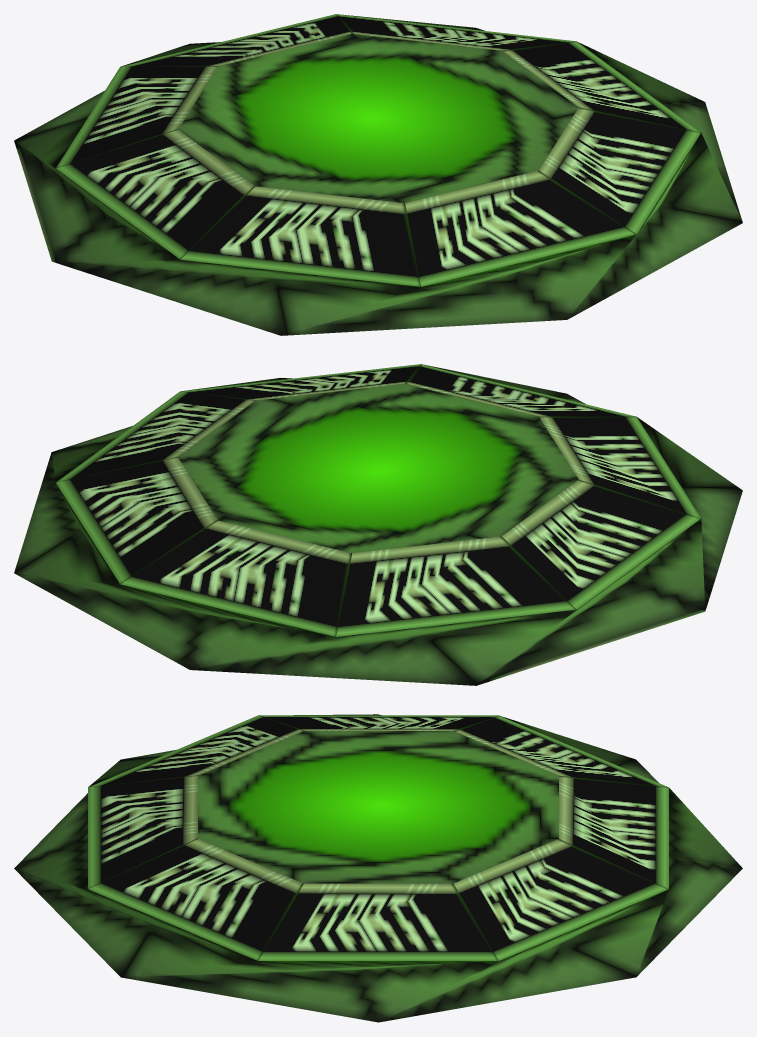
The model's file is pad.fbx.
3 views of the same model, one above another, from view 1: azimuth 30°, elevation 25°; view 2: azimuth 150°, elevation 25°; view 3: azimuth 270°, elevation 25° (orthographic). The views are drawn at different scales.
Visible parts, largest first — view 1: Pad; view 2: Pad; view 3: Pad.
Boxes of the visible parts, box(x1,y1,x2,y2) form: Pad: box(14, 14, 742, 335); Pad: box(14, 364, 742, 685); Pad: box(14, 714, 742, 1022).
Size of the model in its own units: 371 by 34.37 by 371.
